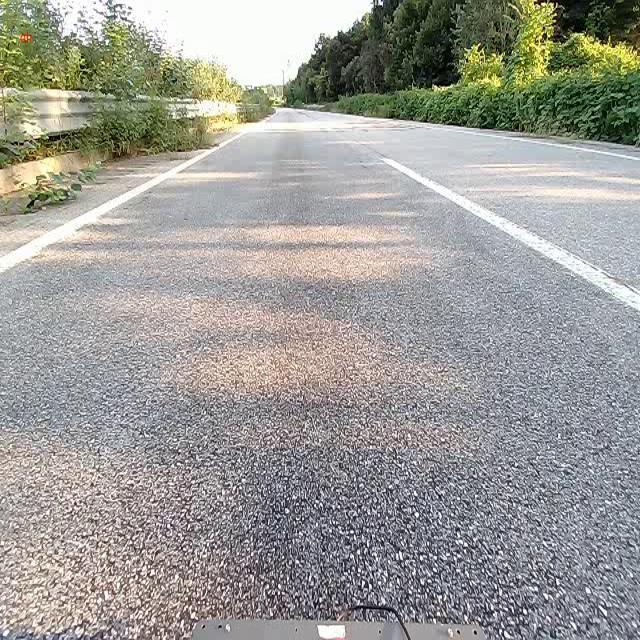Lane: (375, 153, 640, 313), (380, 156, 639, 312), (0, 125, 258, 277), (0, 128, 249, 274)
